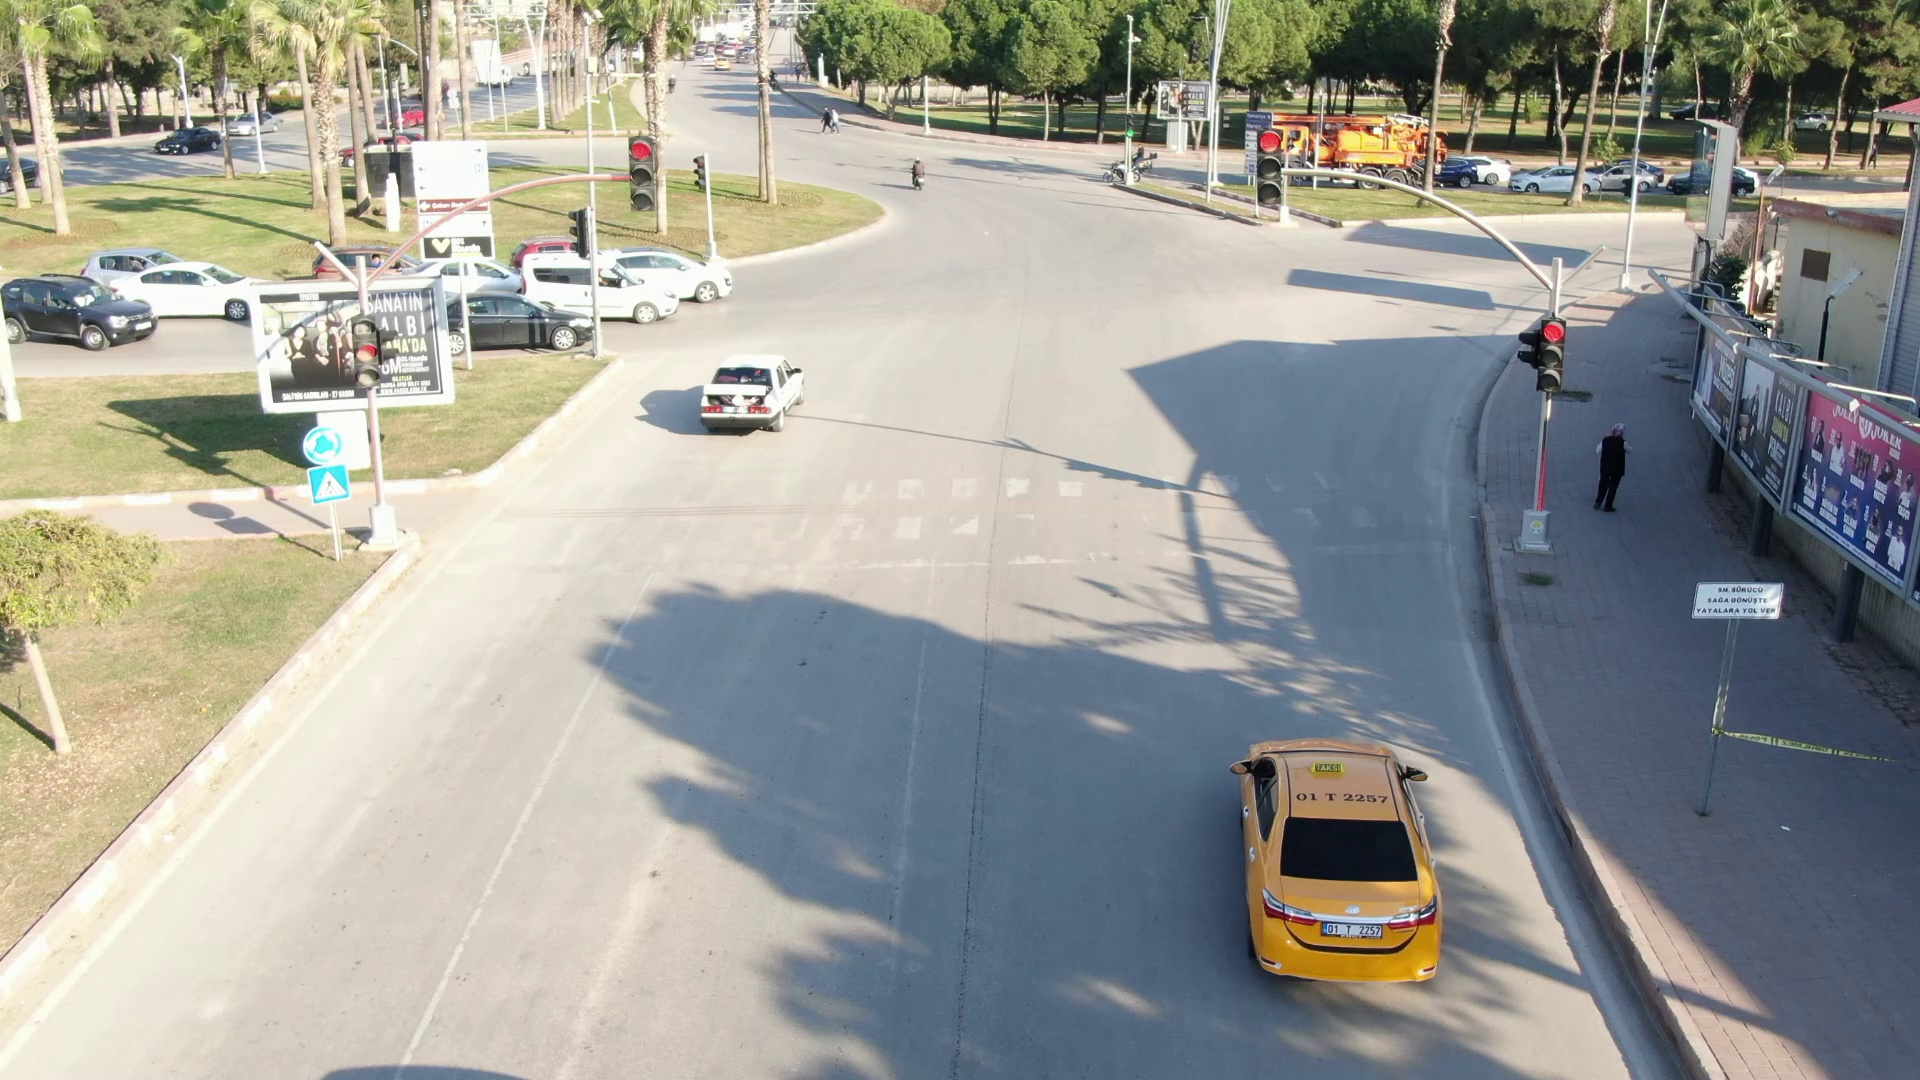car: (1225, 719, 1457, 984), (512, 249, 678, 327), (1, 271, 157, 353), (439, 288, 598, 363), (684, 353, 808, 435), (612, 245, 739, 296)
person: (1586, 421, 1637, 519), (902, 151, 929, 192)
